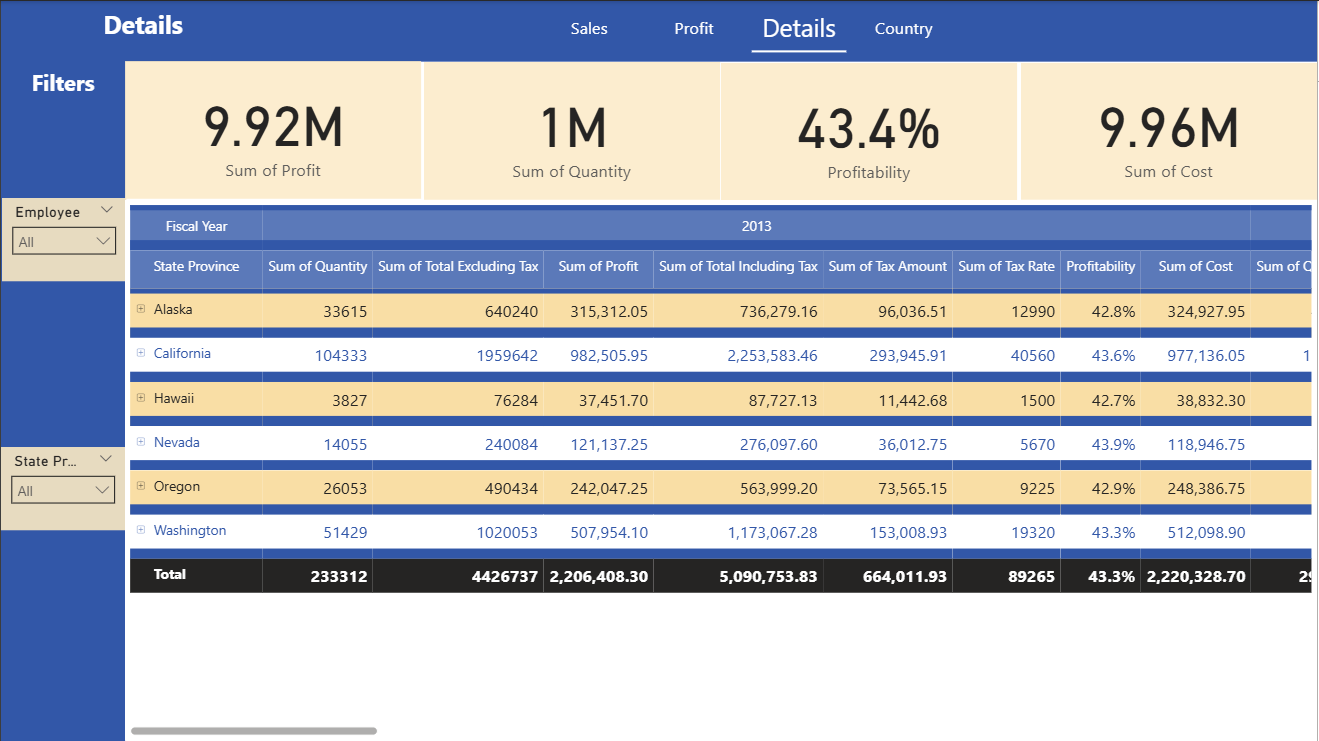

What the dashboard file says about the page in this screenshot:
{"tool":"powerbi","page":{"name":"Details","canvas":[1280,720],"ordinal":2},"visuals":[{"type":"shape","box":[0,0,1280,59.1],"z":0},{"type":"shape","box":[0,1,121,719],"z":1000},{"type":"textbox","box":[0,1,276.2,58.4],"z":2000},{"type":"textbox","box":[0,59.3,120.6,86.6],"z":3000},{"type":"slicer","fields":{"Values":["DimEmployee.Employee"]},"box":[1,192,121,81],"z":4000},{"type":"slicer","fields":{"Values":["DimCity.State Province"]},"box":[0,434,121,81],"z":5000},{"type":"card","fields":{"Values":["Sum(FactSale.Profit)"]},"box":[121,58.7,288,134],"z":6000},{"type":"card","fields":{"Values":["Sum(FactSale.Cost)"]},"box":[992.1,60.3,287.9,133.3],"z":7000},{"type":"card","fields":{"Values":["FactSale.Profitability"]},"box":[700.3,60.3,287.9,134.2],"z":8000},{"type":"card","fields":{"Values":["Sum(FactSale.Quantity)"]},"box":[411.4,59.3,287.9,134.2],"z":9000},{"type":"pivotTable","fields":{"Rows":["DimCity.State Province","DimCity.City"],"Values":["Sum(FactSale.Quantity)","Sum(FactSale.Total Excluding Tax)","Sum(FactSale.Profit)","Sum(FactSale.Total Including Tax)","Sum(FactSale.Tax Amount)","Sum(FactSale.Tax Rate)","FactSale.Profitability","Sum(FactSale.Cost)"],"Columns":["DimDate.Fiscal Year"]},"box":[120.6,193.6,1159.4,526.2],"z":10000},{"type":"pageNavigator","box":[526,0,400,50],"z":11000}]}

Visuals, with their boxes in screenshot pixels (x1, y1, x2, y2), scaled from the page's 1280x720 canvas onto the 1319x741 screenshot:
shape: [0,0,1318,61]
shape: [0,1,125,740]
textbox: [0,1,285,61]
textbox: [0,61,124,150]
slicer - DimEmployee.Employee: [1,198,126,281]
slicer - DimCity.State Province: [0,447,125,530]
card - Sum(FactSale.Profit): [125,60,421,198]
card - Sum(FactSale.Cost): [1022,62,1318,199]
card - FactSale.Profitability: [722,62,1018,200]
card - Sum(FactSale.Quantity): [424,61,721,199]
pivotTable - DimCity.State Province x DimCity.City: [124,199,1318,740]
pageNavigator: [542,0,954,51]
